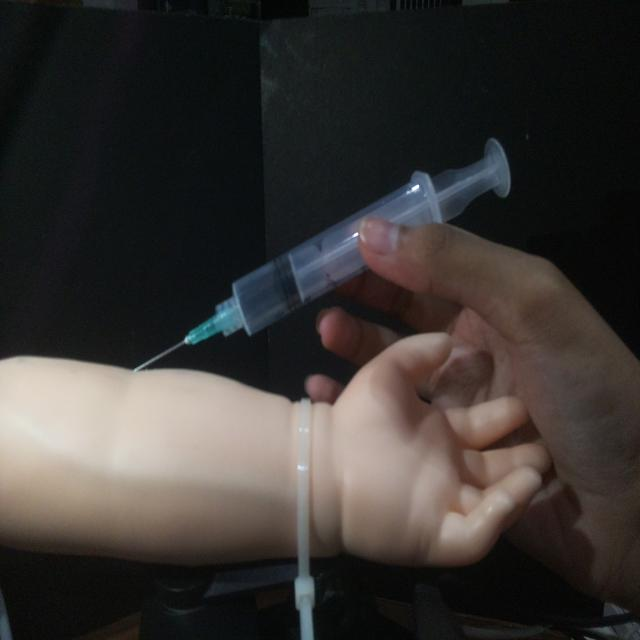22deg: (129, 131, 515, 375)
